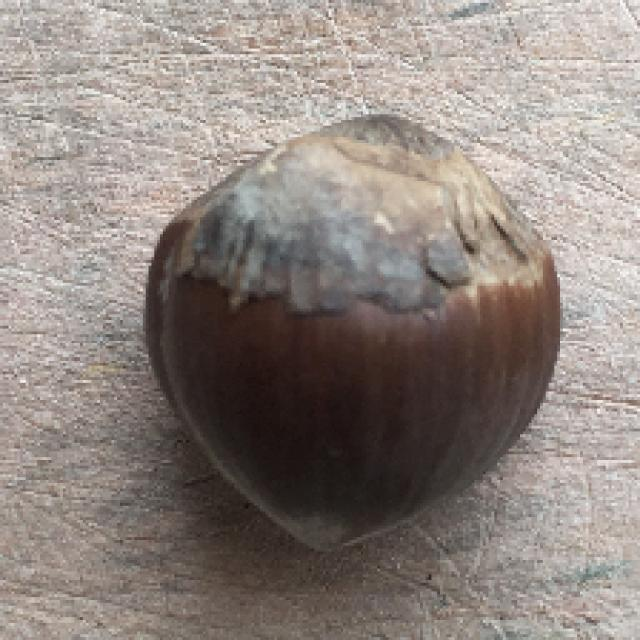damagedHazelnut: (143, 108, 567, 562)
